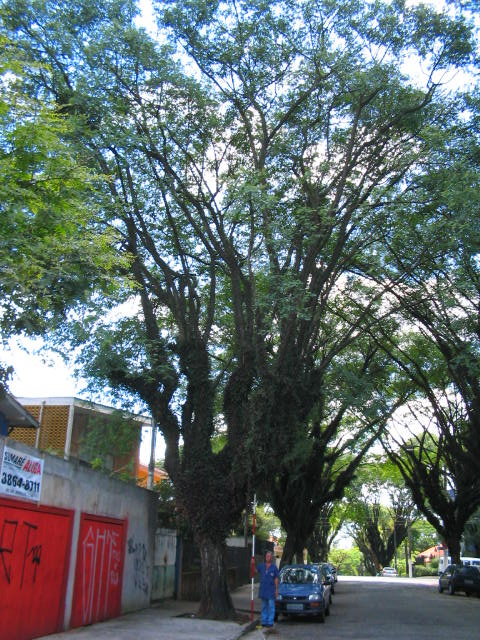crown: (5, 5, 477, 336)
stem: (180, 533, 242, 618)
stick: (245, 495, 259, 620)
tree: (1, 1, 478, 618)
